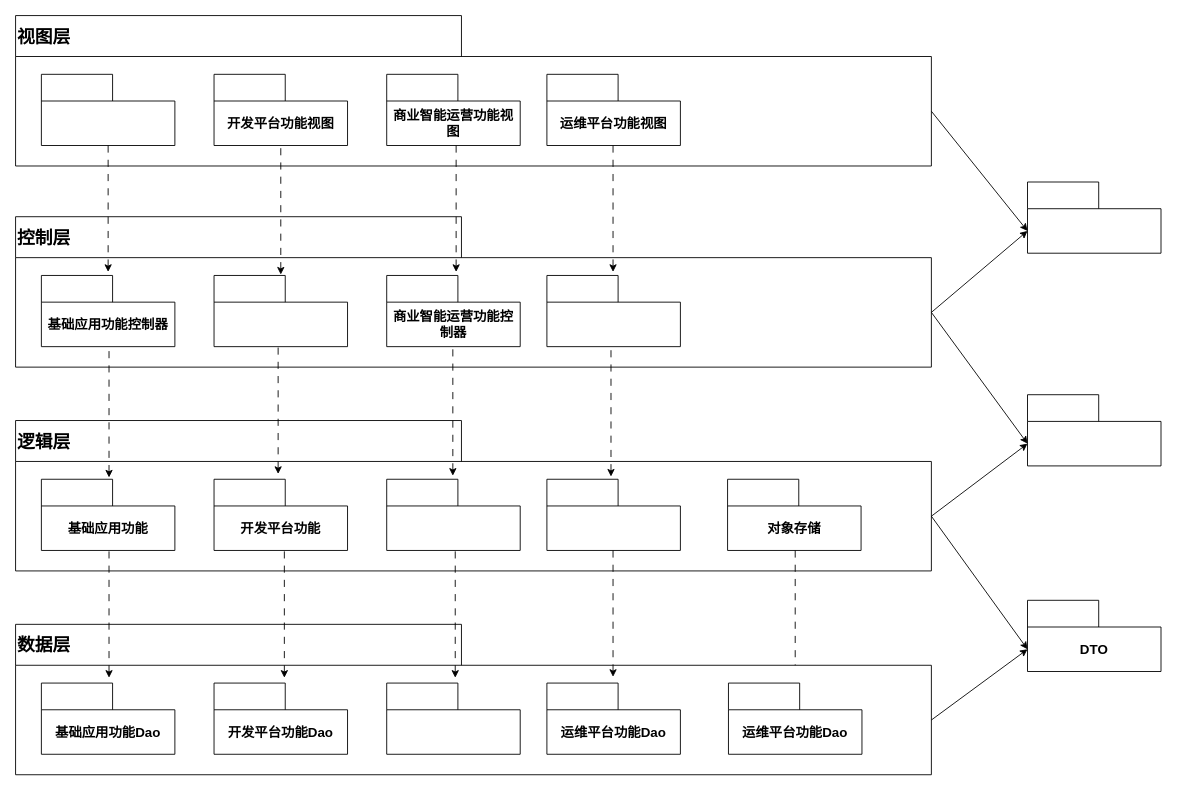
This 1177x790 diagram has some shape labels left out. The shapes that lost their labels are listed below. From the top down, each one's centre as x and y in pixels, then its label:
point (107, 109): 基础应用功能视图
point (1094, 217): VO
point (280, 311): 开发平台功能 控制器
point (613, 311): 运维平台功能 控制器
point (1094, 430): BO
point (453, 514): 商业智能运营功能
point (613, 514): 运维平台功能
point (453, 718): 商业智能运营功能 Dao
